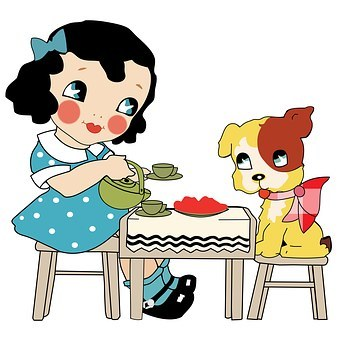chair: (27, 230, 127, 324), (241, 248, 330, 324)
diningtable: (112, 197, 266, 323)
dog: (205, 102, 334, 262)
person: (1, 16, 196, 327)
